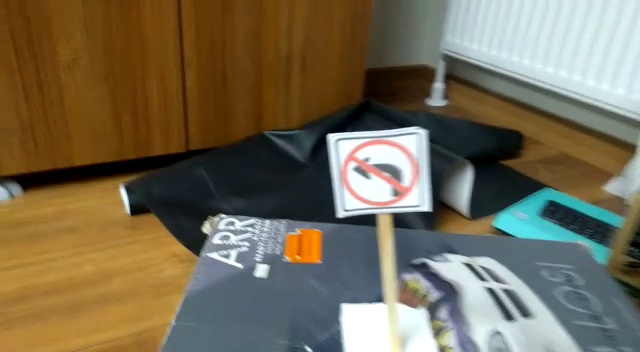sola_donulmez: (338, 130, 421, 209)
